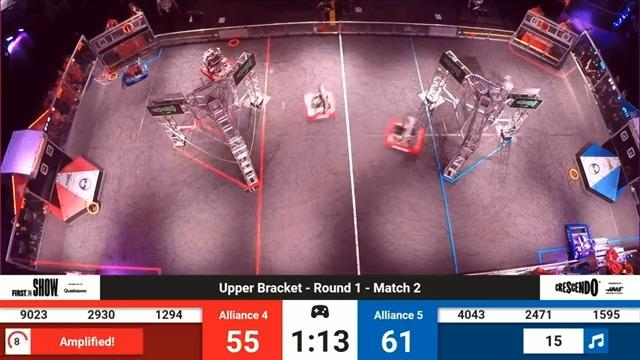robot: (559, 209, 604, 267), (384, 111, 429, 162), (197, 43, 238, 83), (301, 83, 342, 123), (483, 69, 520, 107), (118, 58, 158, 84)
